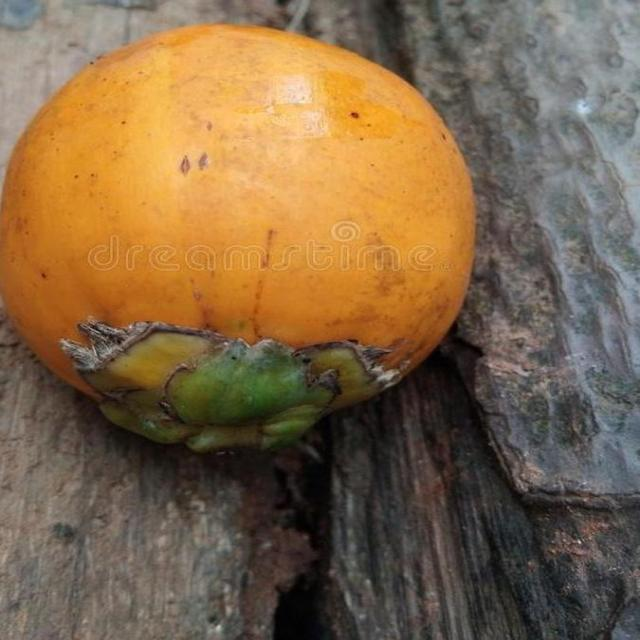good: (0, 24, 477, 454)
